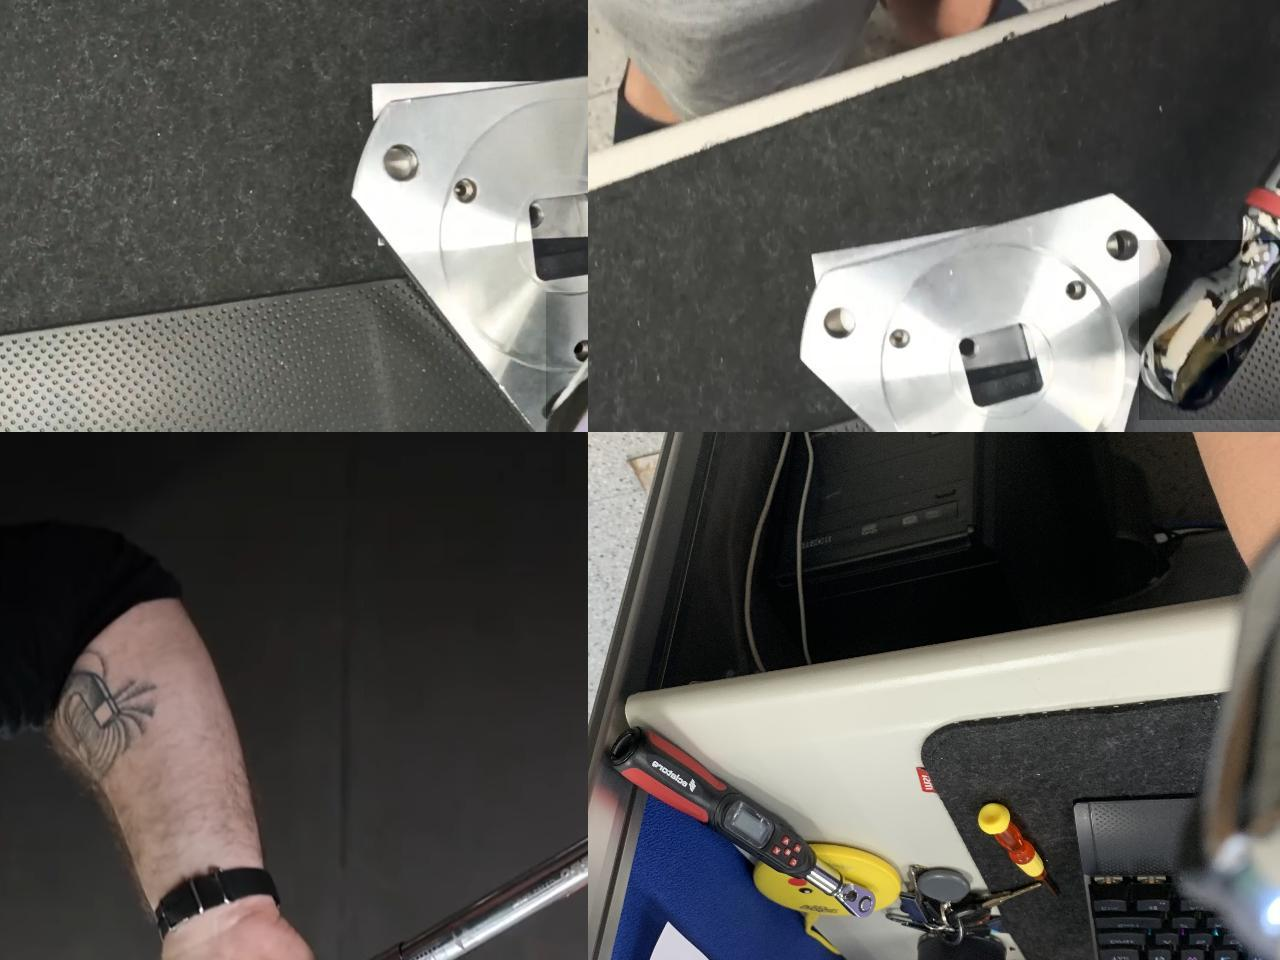Tool: (1138, 239, 1280, 419)
hole: (375, 131, 421, 193), (824, 304, 857, 346), (1104, 228, 1137, 266), (454, 169, 477, 209), (1059, 276, 1087, 305), (887, 327, 908, 355), (574, 339, 587, 362)
